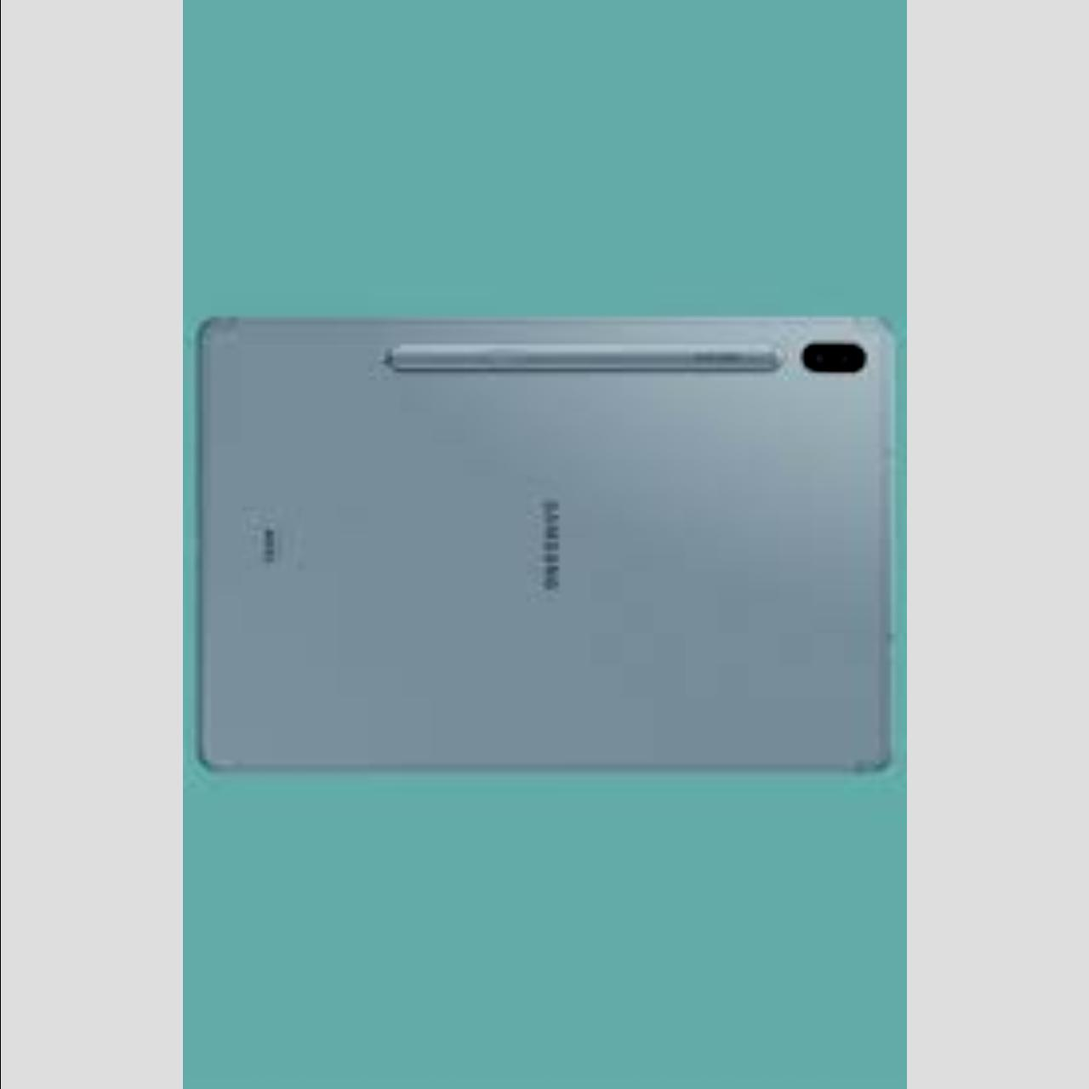Tablet_PC: (194, 310, 897, 777)
